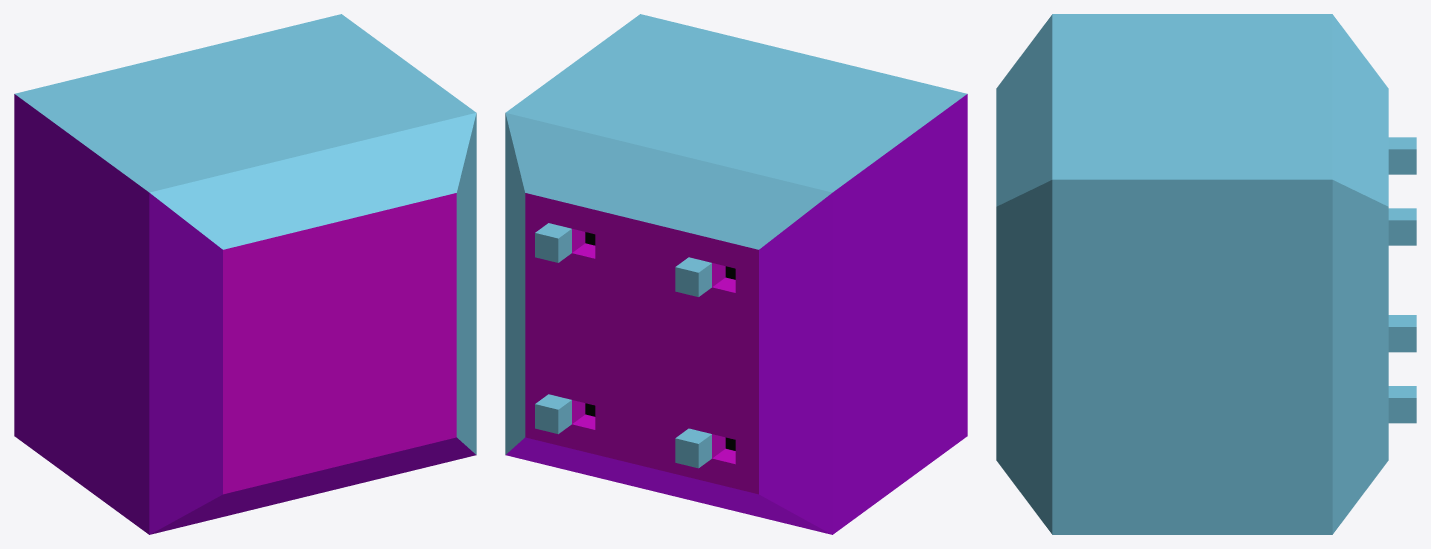
The model's file is br-m-cubeplate-purple.fbx.
3 views of the same model, side by side, from view 1: azimuth 30°, elevation 25°; view 2: azimuth 150°, elevation 25°; view 3: azimuth 270°, elevation 25° (orthographic). The views are drawn at different scales.
Parts seen in each view (by area): view 1: cubePlate_purple3; view 2: cubePlate_purple3; view 3: cubePlate_purple3.
Part boxes in pixels (bbox=[...]): cubePlate_purple3: bbox=[14, 14, 476, 534]; cubePlate_purple3: bbox=[505, 14, 967, 534]; cubePlate_purple3: bbox=[996, 14, 1416, 534].
Size of the model in its own units: 0.875 by 0.875 by 0.9375.
